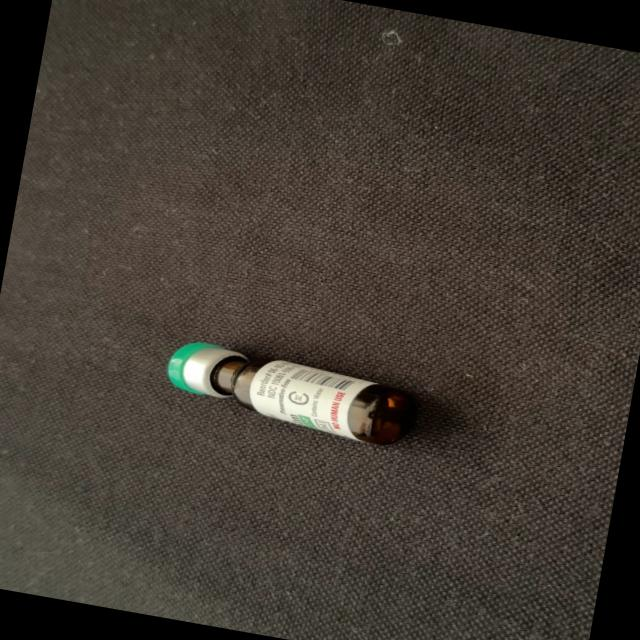midazolm: (165, 338, 414, 448)
